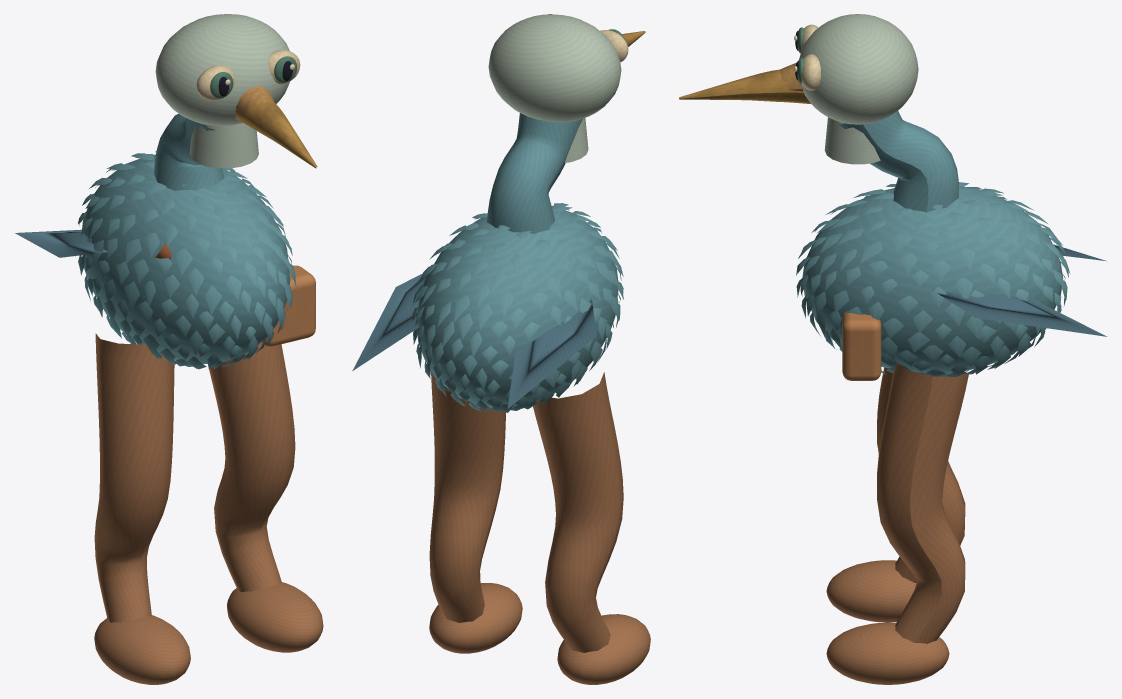
The model's file is plover.glb.
3 views of the same model, side by side, from view 1: azimuth 30°, elevation 25°; view 2: azimuth 150°, elevation 25°; view 3: azimuth 270°, elevation 25° (orthographic). The views are drawn at different scales.
Visible parts, largest first — view 1: Bent limb (×2), Wader breast, Contour plumage, Foot (×2), Cranium, Curved throat, Visible neck, Chart bag, Sounding bill, Blade, Sclera, Tapered beak; view 2: Bent limb (×2), Wader breast, Contour plumage, Cranium, Foot (×2), Curved throat, Blade (×2), Visible neck; view 3: Wader breast, Bent limb (×2), Contour plumage, Cranium, Foot (×2), Curved throat, Blade, Chart bag, Sounding bill, Visible neck.
Part boxes in pixels (x1,y1,x2,y2): Bent limb (×2): (94,333,295,622); Wader breast: (82,154,290,363); Contour plumage: (75,151,296,369); Foot (×2): (94,582,323,684); Cranium: (155,14,289,125); Curved throat: (154,113,224,190); Visible neck: (189,123,258,168); Chart bag: (260,265,315,346); Sounding bill: (235,100,317,168); Blade: (15,229,107,257); Sclera: (196,65,234,100); Tapered beak: (236,85,274,113); Bent limb (×2): (429,372,623,652); Wader breast: (417,205,618,407); Contour plumage: (412,203,623,412); Cranium: (488,14,621,122); Foot (×2): (429,583,650,684); Curved throat: (487,113,582,233); Blade (×2): (352,273,596,408); Visible neck: (564,118,588,162); Wader breast: (802,186,1063,374); Bent limb (×2): (877,362,969,643); Contour plumage: (796,182,1070,376); Cranium: (799,14,918,124); Foot (×2): (826,560,949,684); Curved throat: (837,111,958,212); Blade: (933,290,1107,336); Chart bag: (842,311,881,380); Sounding bill: (679,69,811,104); Visible neck: (824,117,880,164).
Size of the model in its own units: 0.621 by 1.85 by 1.15.
12 materials, 12 textured.
